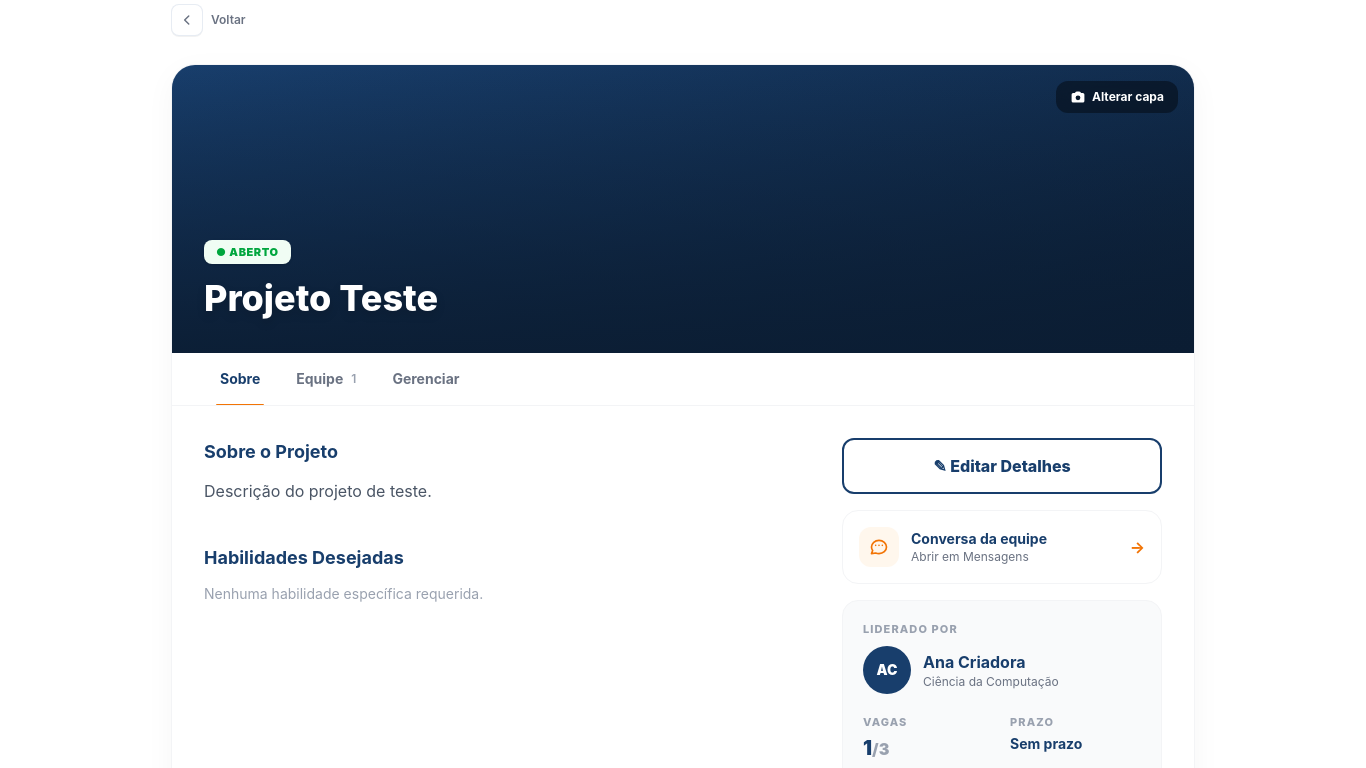
Test: DetalhesProjeto › permite que o criador convide um candidato recomendado
This screenshot has width=1366, height=768.
Click the tab "Gerenciar".
click(426, 379)  # box [376, 353, 476, 405]
(page scrolled)
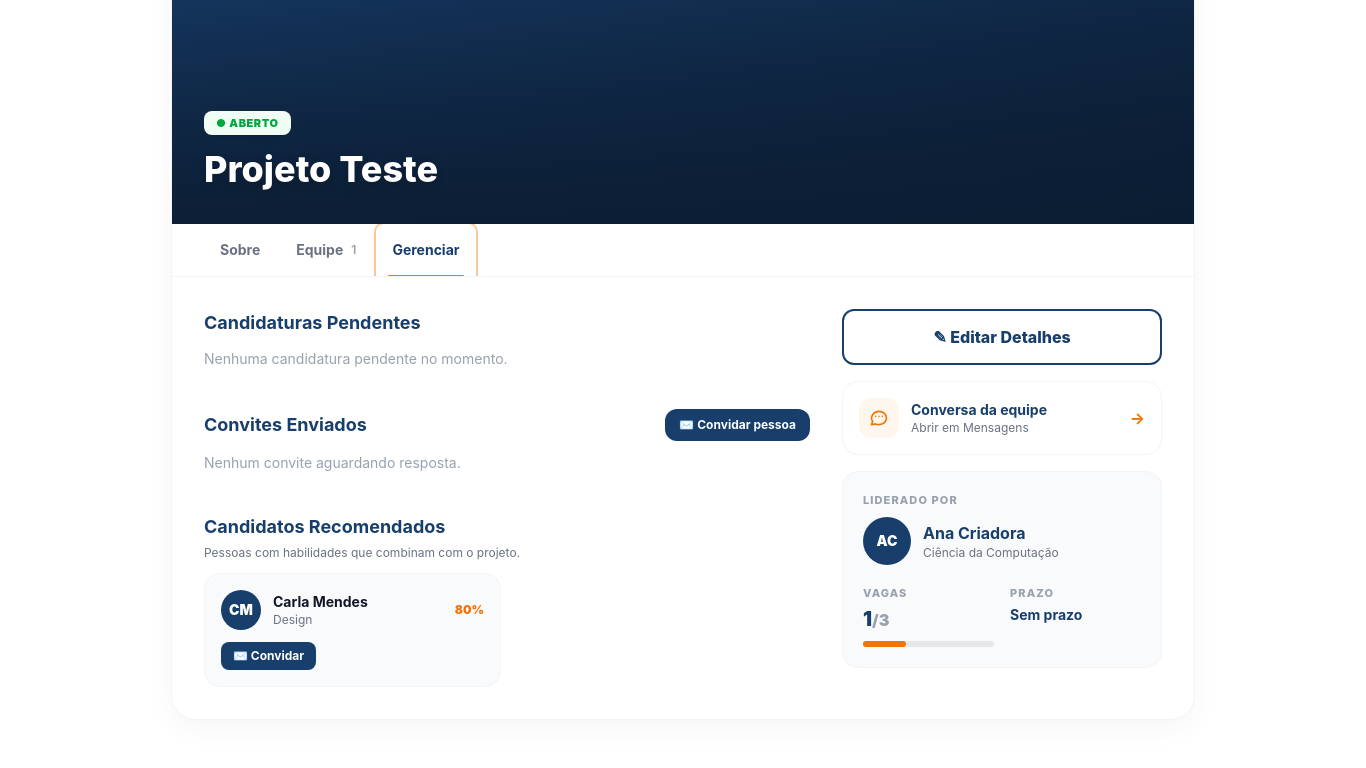
Click the button "✉ Convidar".
click(269, 656)  # box [221, 642, 316, 670]
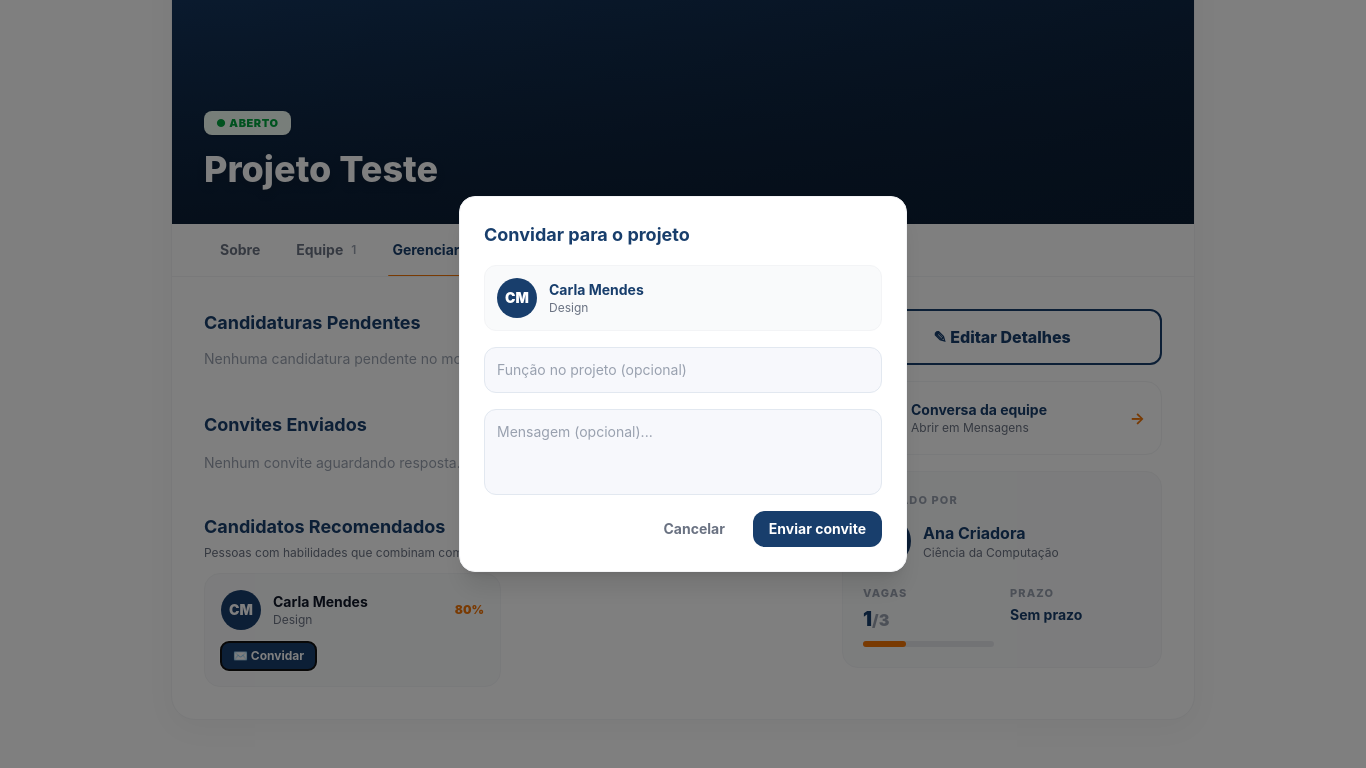
expect the text "Carla Mendes" is shown: met, box [549, 281, 644, 298]
Type "Design" into the field labelled "Função no projeto (opcional)".
click(683, 370); type("Design")  # box [484, 347, 882, 393]
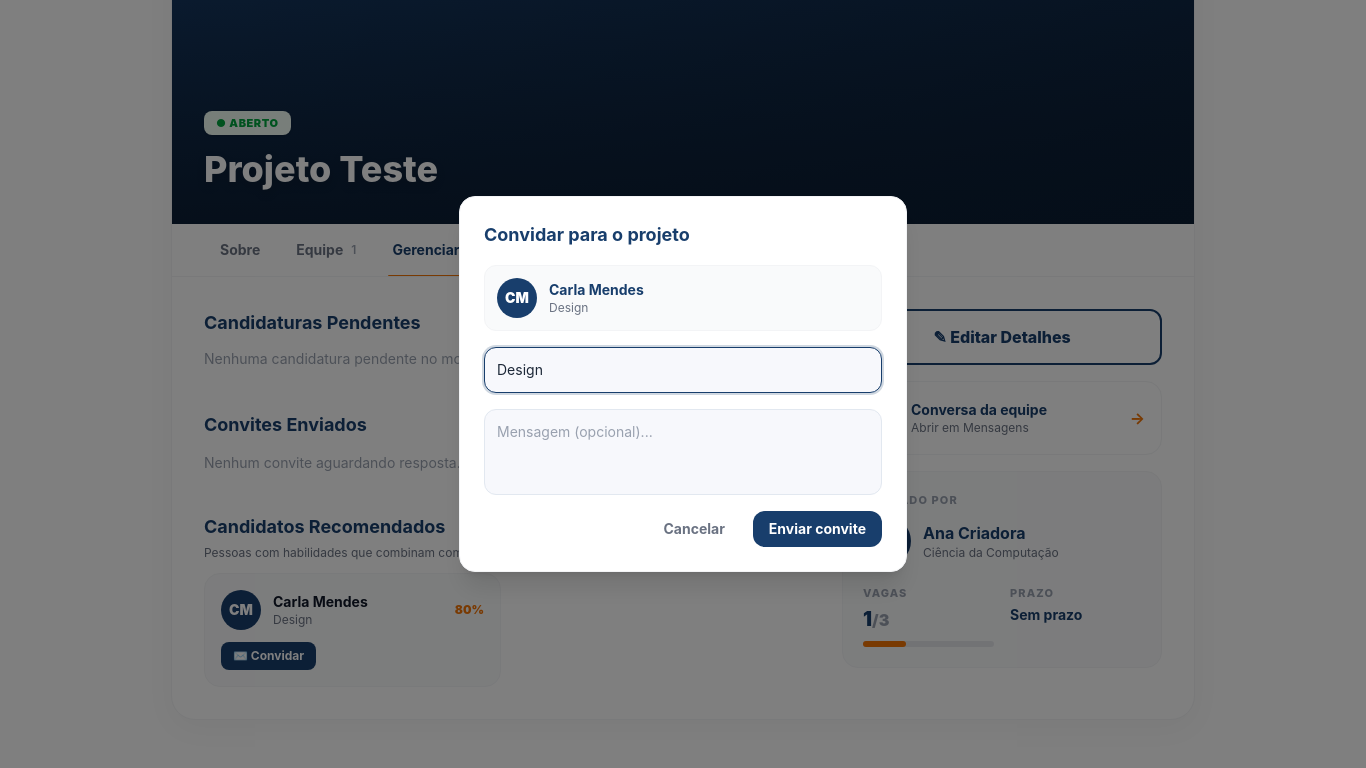
Click the button "Enviar convite".
click(817, 529)  # box [753, 511, 882, 547]
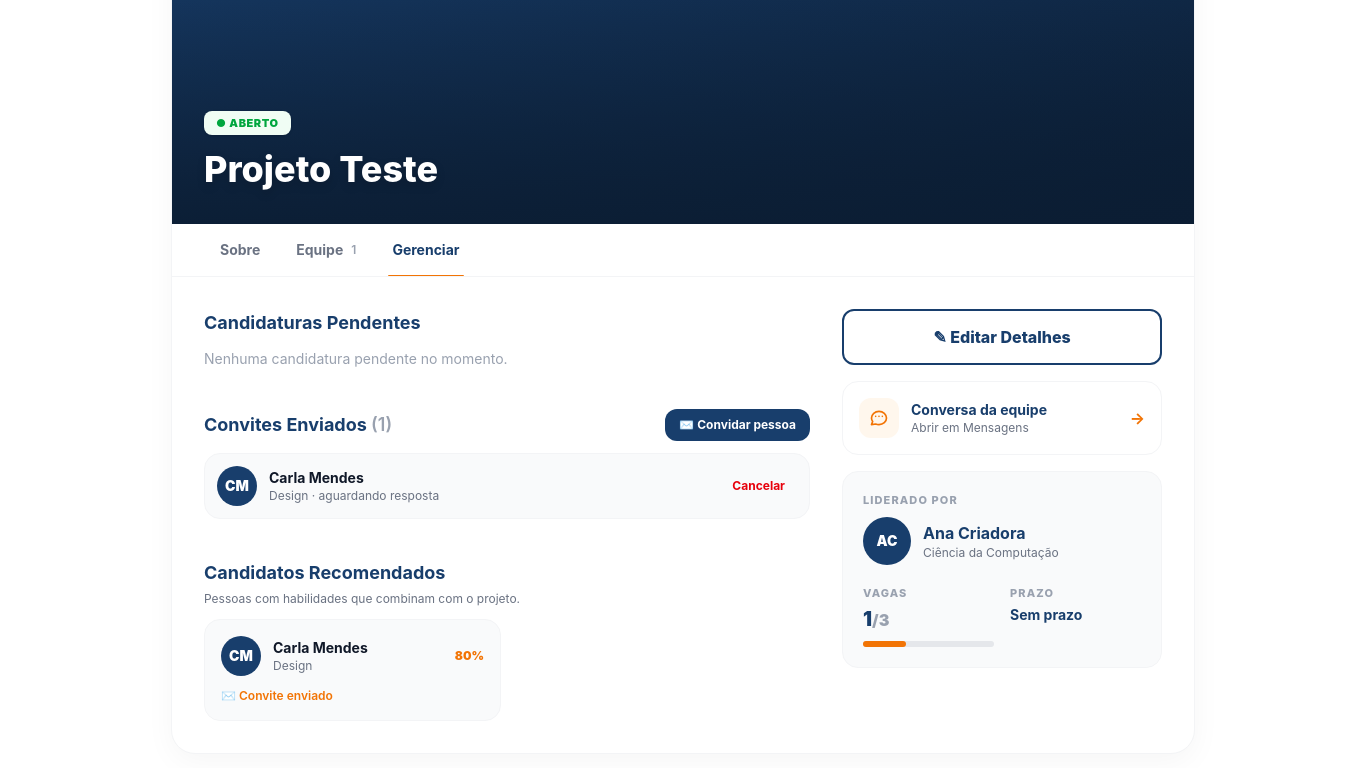
expect the dialog is gone: met
expect the text "✉ Convite enviado" is shown: met, box [221, 688, 333, 704]
expect the text "Design · aguardando resposta" is shown: met, box [269, 488, 439, 503]
